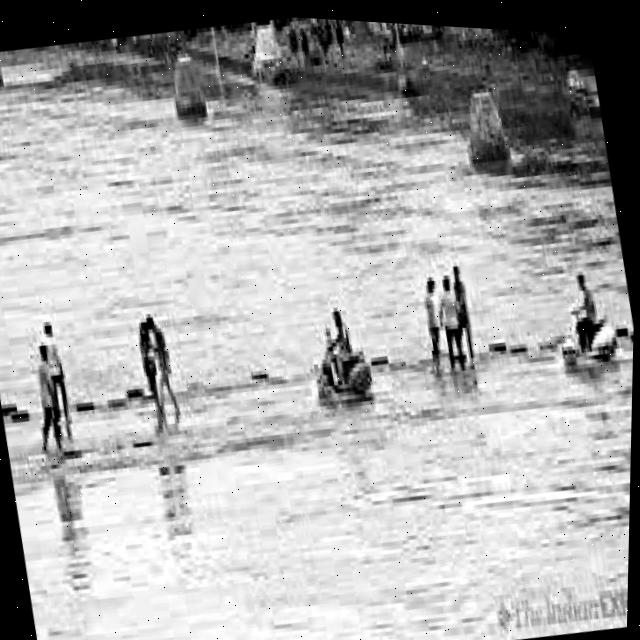civilian: (134, 304, 195, 442), (21, 337, 87, 458), (121, 317, 175, 434), (32, 317, 85, 434), (563, 263, 616, 350), (449, 265, 489, 374), (414, 276, 448, 368), (316, 301, 359, 370), (438, 278, 467, 366)
